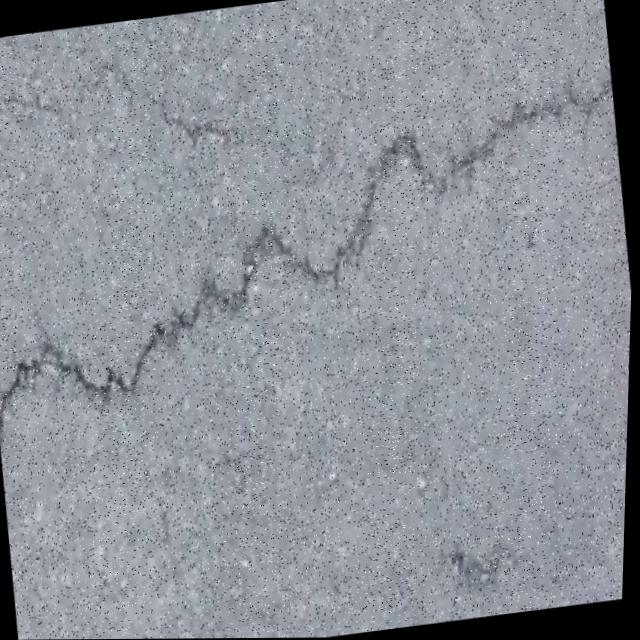Crack: (0, 77, 638, 450), (0, 52, 228, 151)
